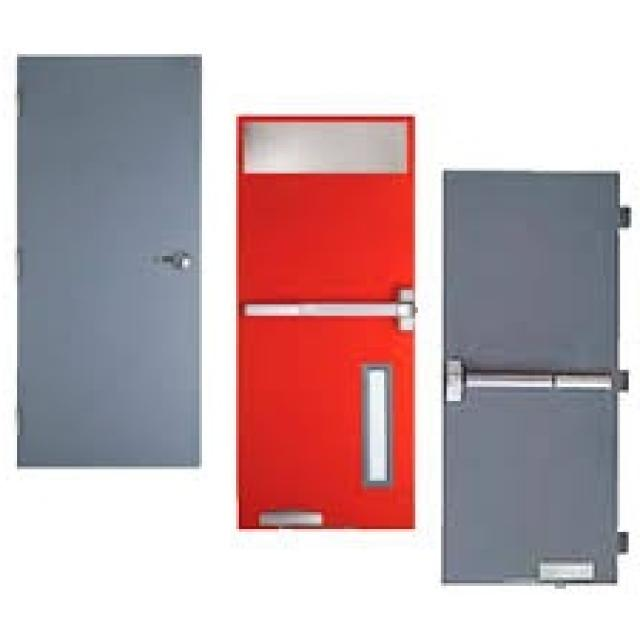door: (236, 114, 418, 532)
